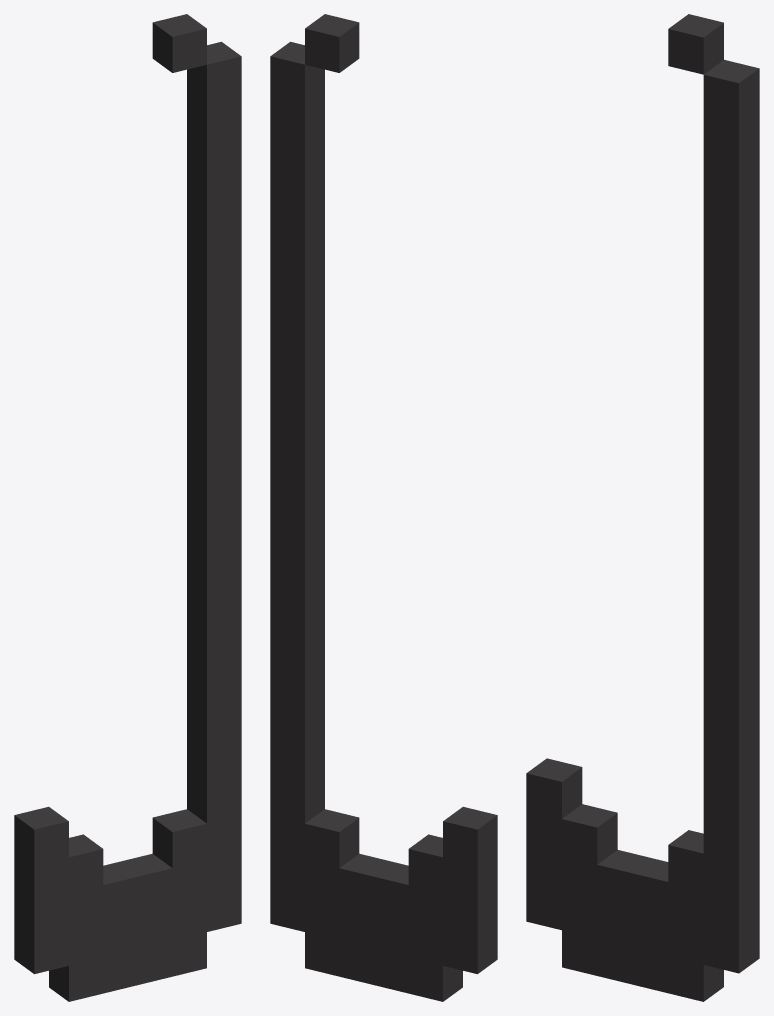
The model's file is DRON-1.obj.
The picture shows the model from 3 angles, left to right: view 1: azimuth 30°, elevation 25°; view 2: azimuth 150°, elevation 25°; view 3: azimuth 330°, elevation 25°; orthographic projection. The views are drawn at different scales.
Size of the model in its own units: 0.6 by 2.6 by 0.1.
1 material, 1 textured.
